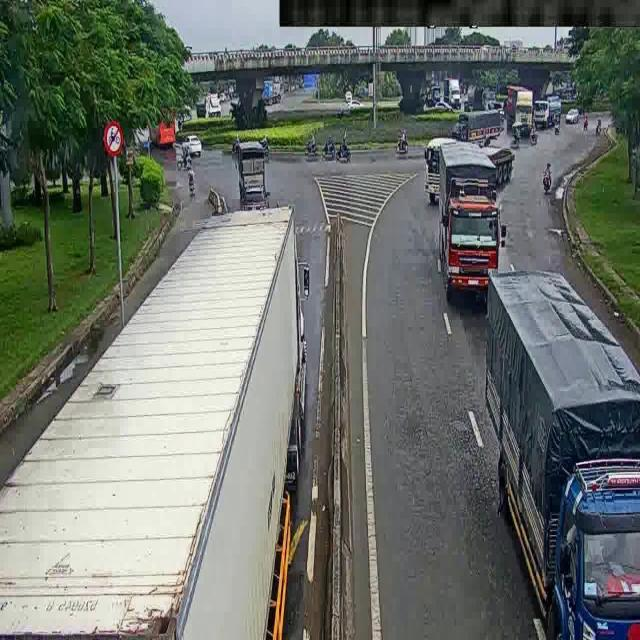car: (426, 137, 503, 293), (173, 131, 208, 158), (560, 108, 578, 125)
motorbike: (388, 130, 423, 160), (180, 164, 206, 195), (318, 131, 336, 166), (298, 133, 321, 159), (335, 134, 355, 163), (537, 165, 555, 193), (580, 107, 591, 138), (550, 117, 566, 138), (594, 115, 606, 136)
truck: (7, 207, 314, 622), (459, 251, 640, 638), (417, 130, 525, 194), (213, 134, 281, 221), (499, 72, 536, 147), (438, 106, 509, 141), (533, 90, 566, 133)
